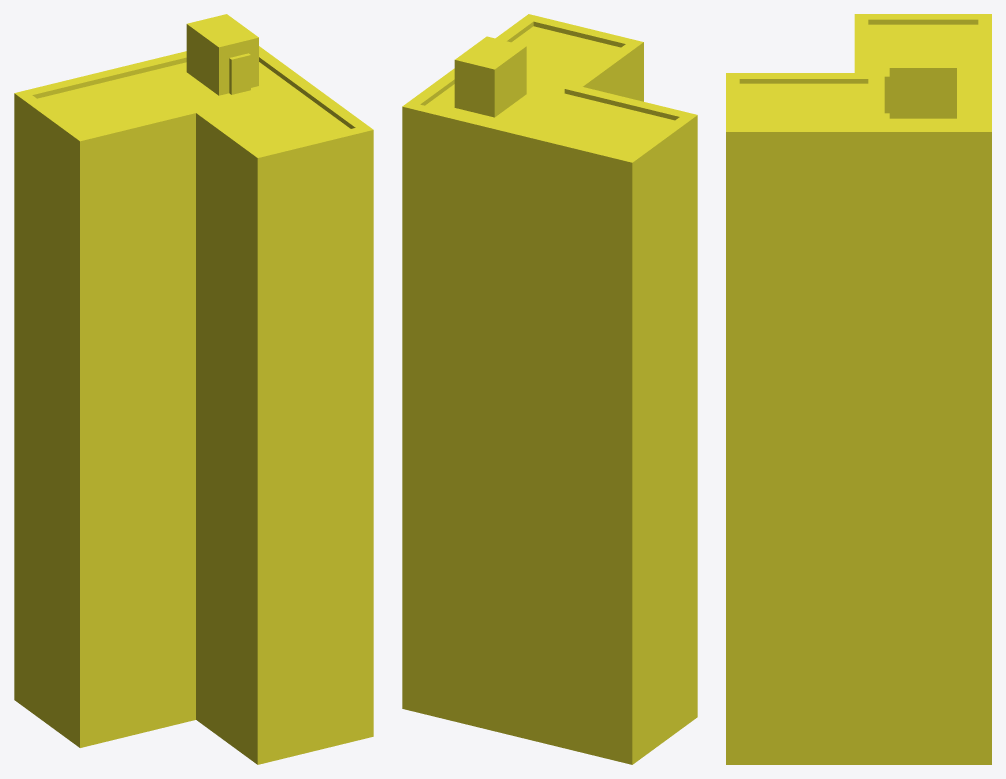
File: Building3_yellow.fbx
The picture shows the model from 3 angles, left to right: view 1: azimuth 30°, elevation 25°; view 2: azimuth 150°, elevation 25°; view 3: azimuth 270°, elevation 25°; orthographic projection. The views are drawn at different scales.
Visible parts, largest first — view 1: Building 3; view 2: Building 3; view 3: Building 3.
Boxes of the visible parts, x1=… form: Building 3: x1=14, y1=14, x2=373, y2=764; Building 3: x1=402, y1=14, x2=697, y2=764; Building 3: x1=726, y1=14, x2=991, y2=764.
Size of the model in its own units: 1368 by 3664 by 1302.
1 material, 1 textured.
